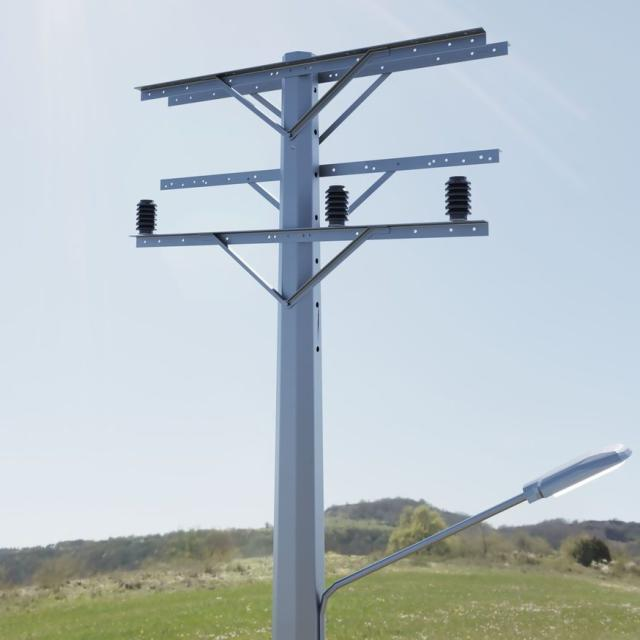Poste: (134, 28, 631, 639)
